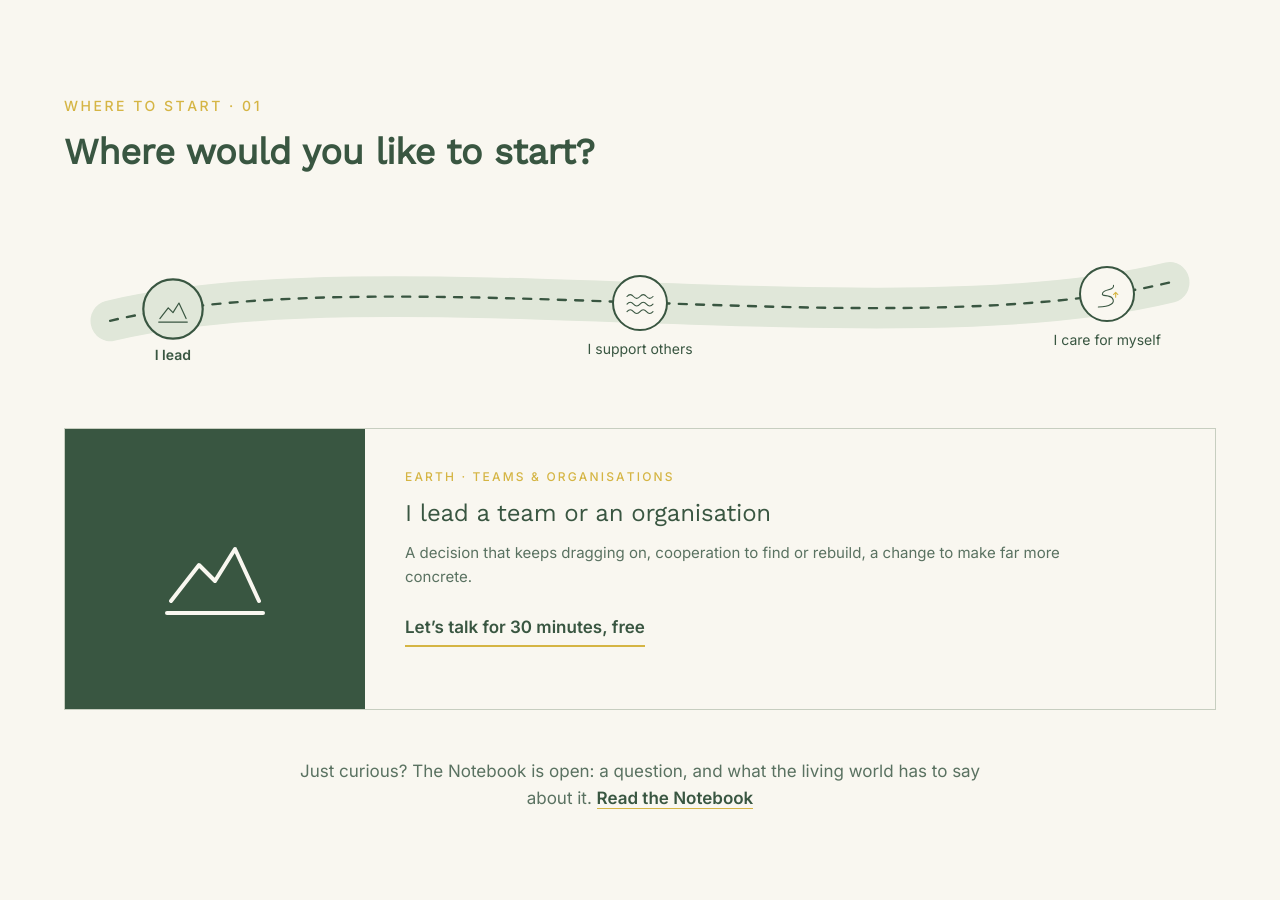
home three doors › uses English station labels, eyebrows and destinations
expect the tab "I lead" is shown: met, box [145,281,201,337]
expect the tab "I care for myself" is shown: met, box [1079,266,1135,322]
What coordinates should you click on to do the following:
click the tab "I support others"
I would click on:
 (640, 302)
Its box is [612,274,668,330].
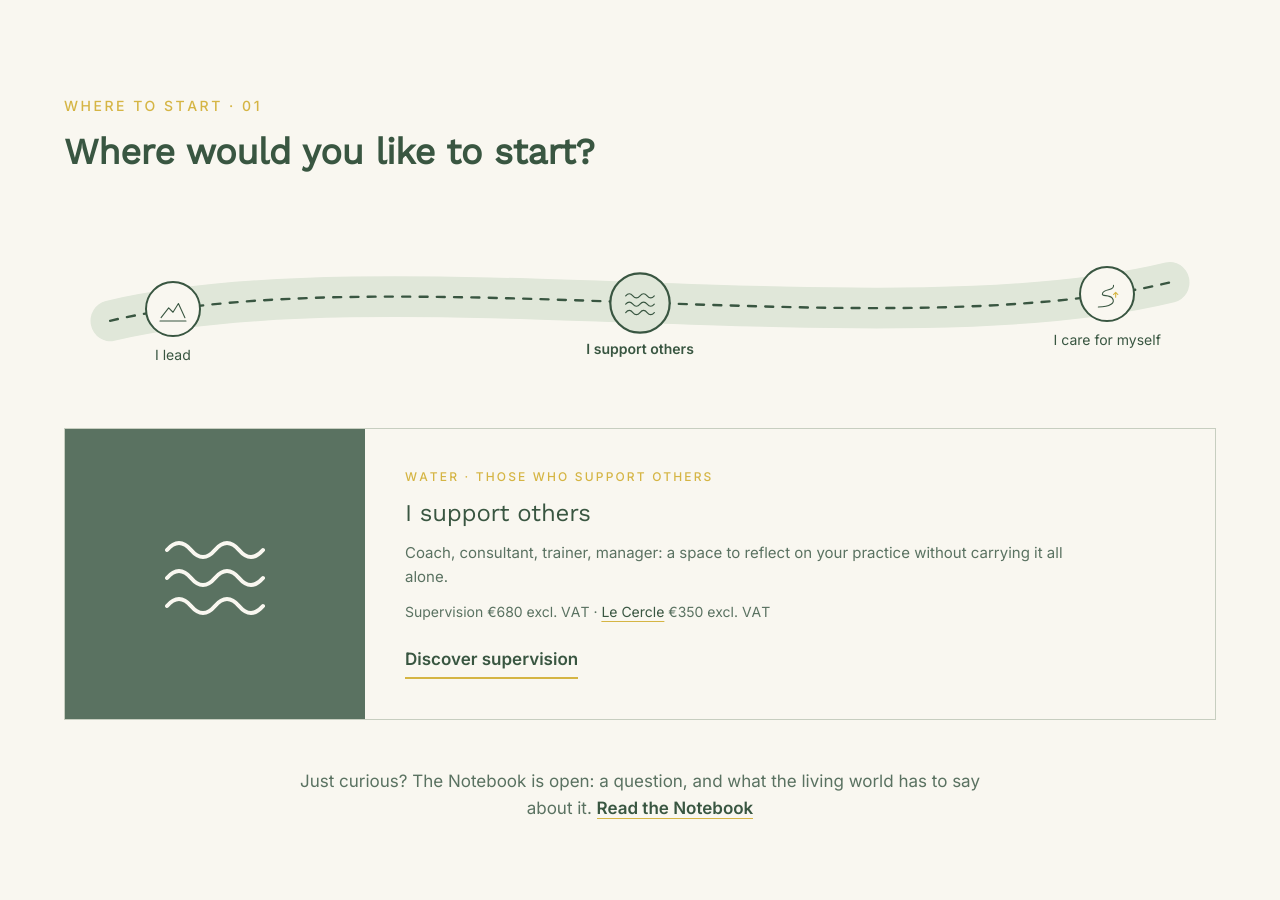
expect the text "Water · Those who support others" is shown: met, box [405,469,714,484]
What coordinates should you click on to do the following:
click the tab "I care for myself"
I would click on:
 (1107, 294)
Its box is [1079,266,1135,322].
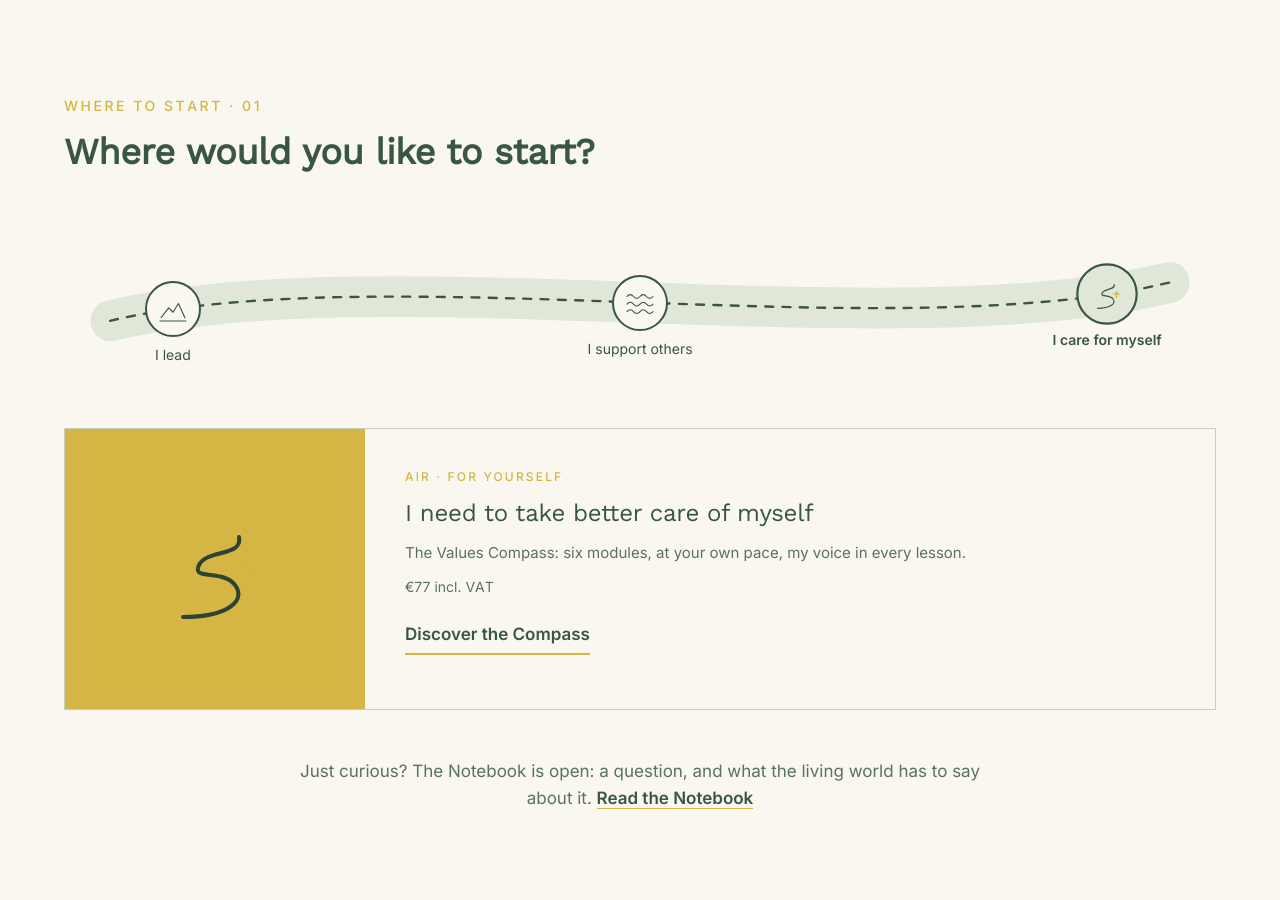
expect the link "Discover the Compass" has attribute href="/en/compass": met, box [405,621,590,655]
